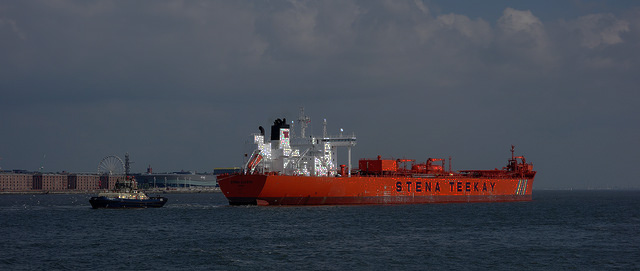tanker: (217, 117, 541, 211)
tug_boat: (83, 174, 171, 209)
